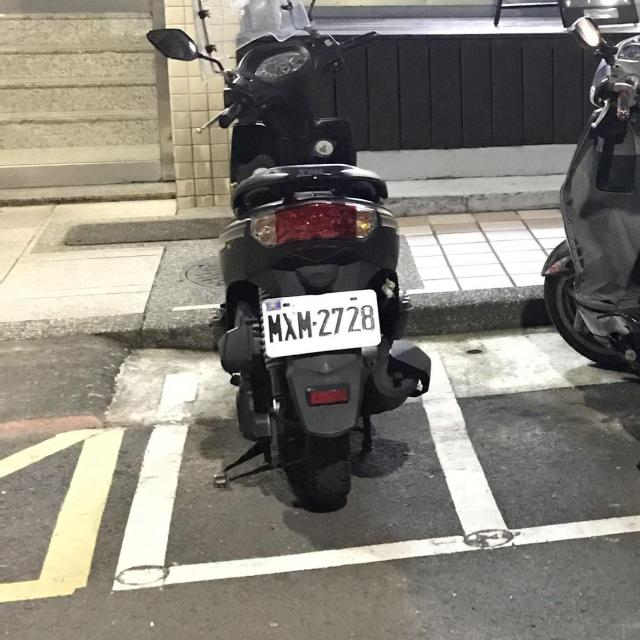W: (259, 289, 385, 359)
